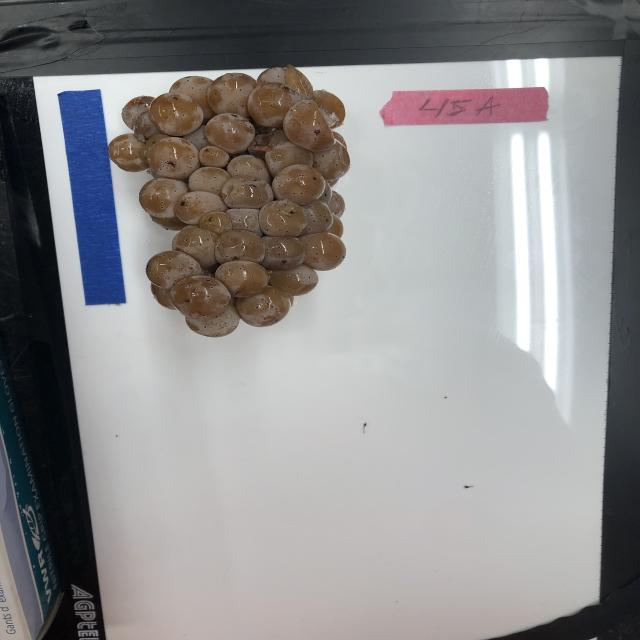grape_cluster: (108, 61, 353, 339)
index: (378, 85, 554, 129)
measure_label: (56, 86, 130, 307)
